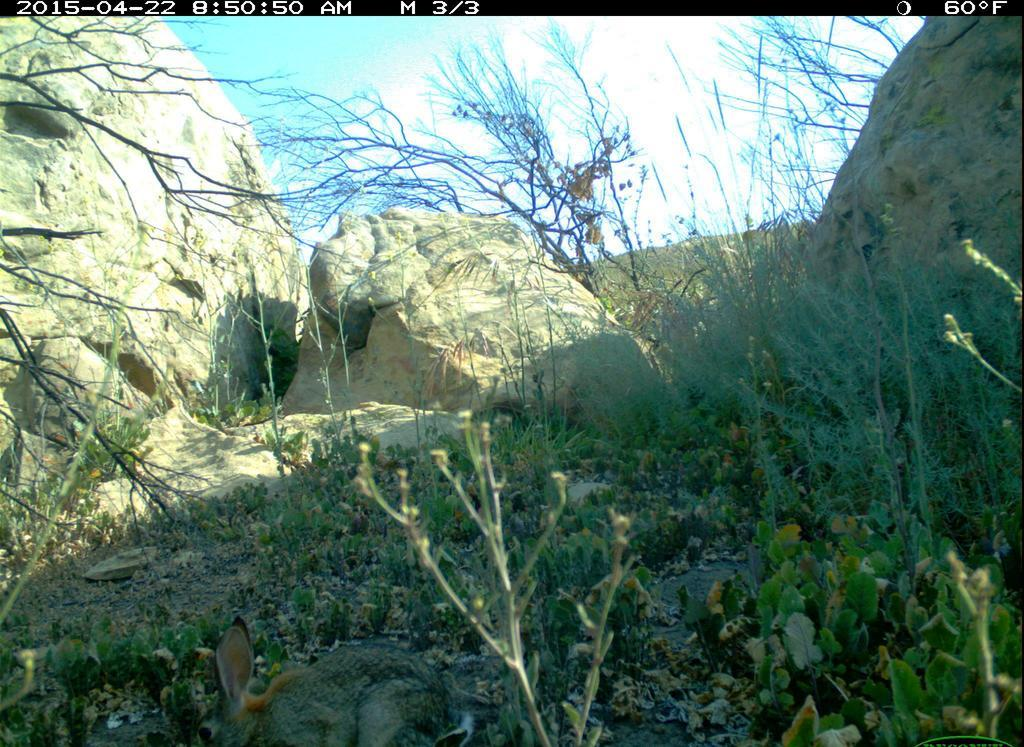rabbit: (184, 612, 483, 747)
